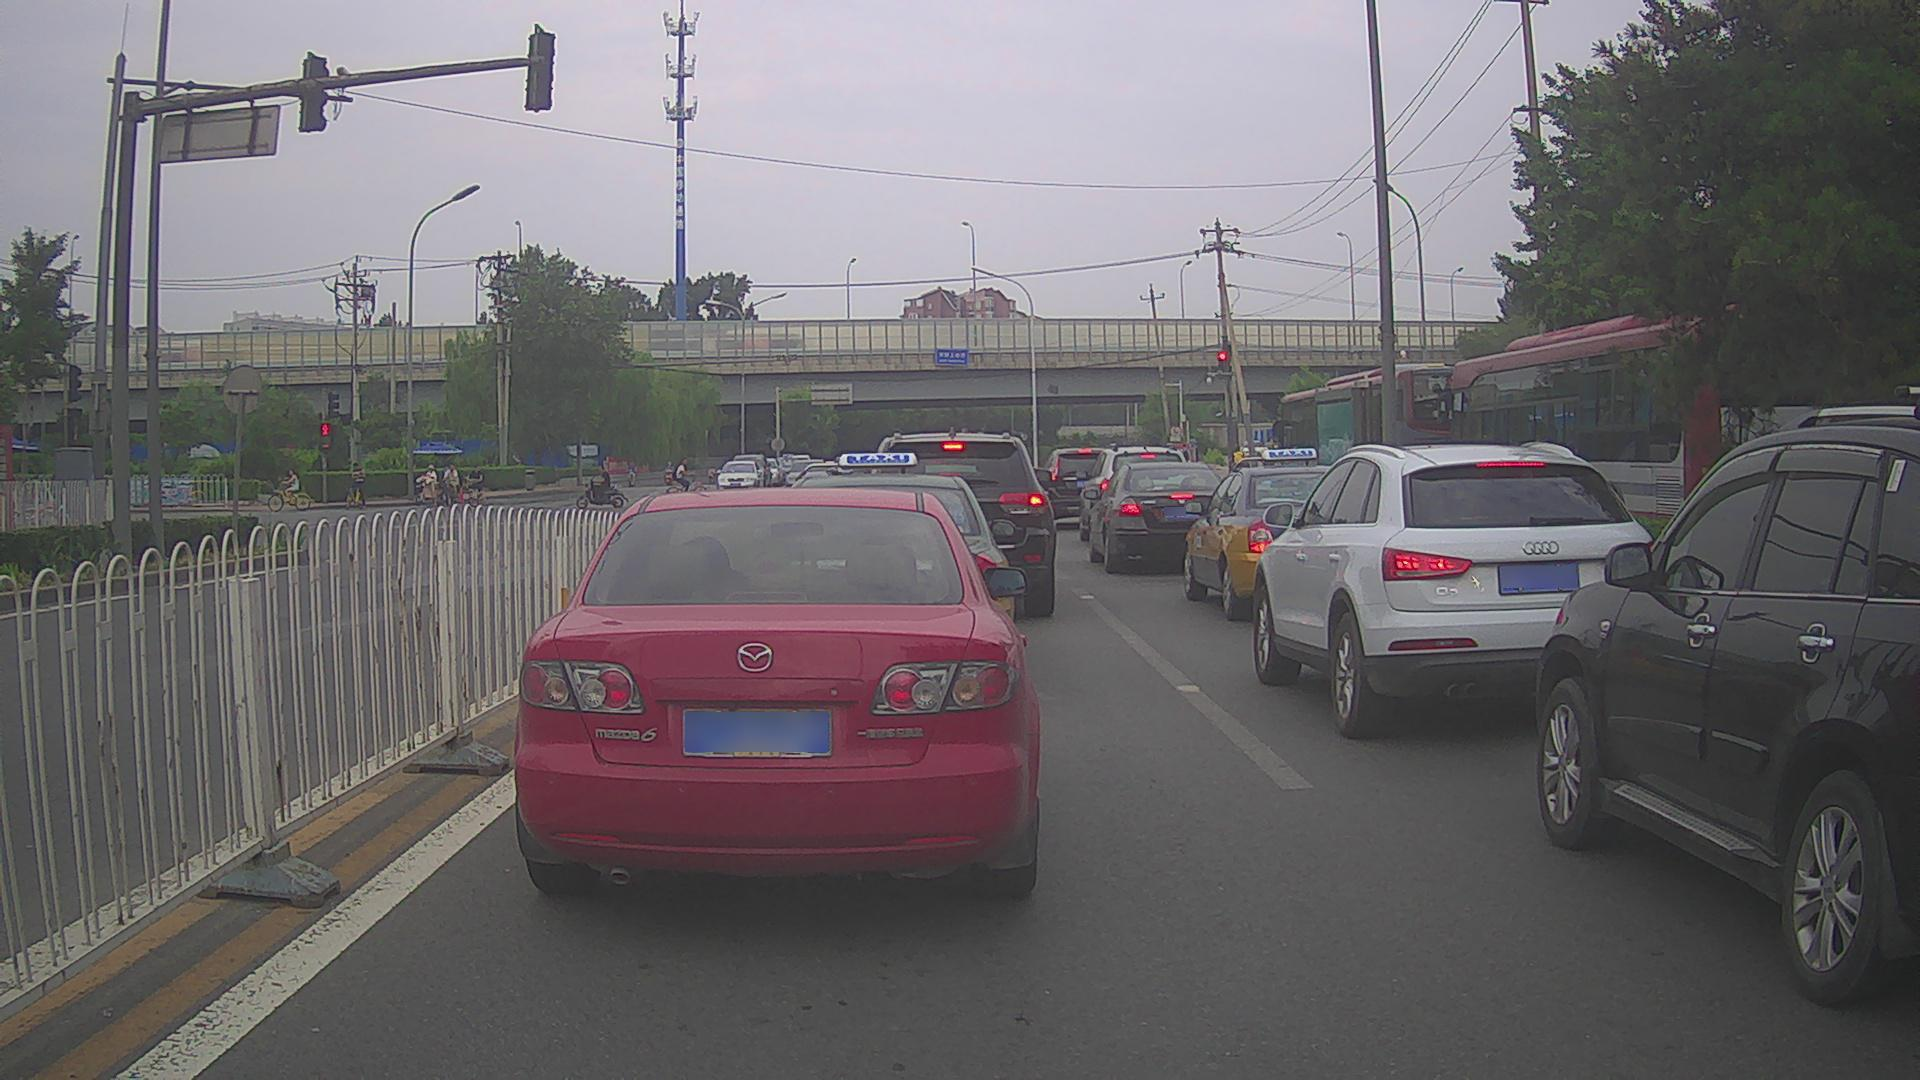bus: (1436, 303, 1918, 642), (1272, 363, 1549, 572)
car: (1534, 416, 1918, 1007), (514, 487, 1039, 897), (1252, 441, 1663, 739), (852, 431, 1056, 617), (1182, 449, 1379, 622), (1083, 461, 1233, 575), (1075, 442, 1193, 540), (1040, 447, 1119, 522), (716, 460, 762, 493), (786, 458, 829, 490), (733, 453, 771, 488), (751, 458, 784, 487), (1239, 440, 1266, 460)
cyclist: (267, 467, 311, 513), (665, 457, 706, 501), (344, 461, 367, 511), (415, 463, 441, 505), (464, 463, 486, 506), (441, 462, 460, 506), (625, 460, 638, 488), (707, 464, 716, 487)
ignore: (791, 452, 1017, 622)
motorcyclist: (575, 465, 629, 509), (663, 460, 675, 486)
pedestrian: (777, 452, 793, 489), (1232, 446, 1243, 475), (1188, 434, 1198, 461), (1180, 443, 1189, 470)
trafficcone: (456, 485, 465, 504)
